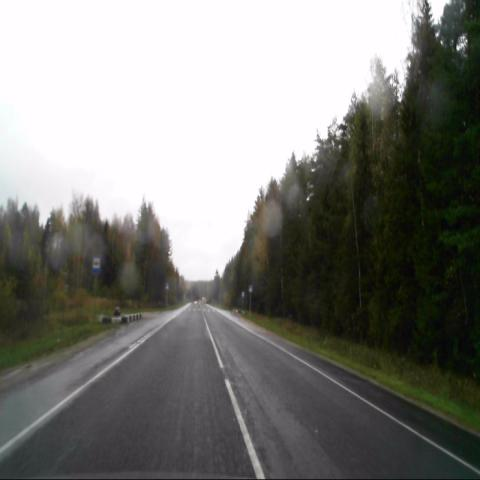5_16: (93, 255, 101, 275)
